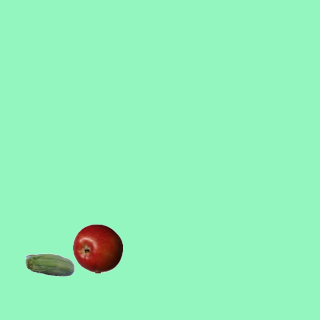Apple Braeburn: (72, 223, 122, 273)
Corn Husk: (24, 241, 74, 291)
